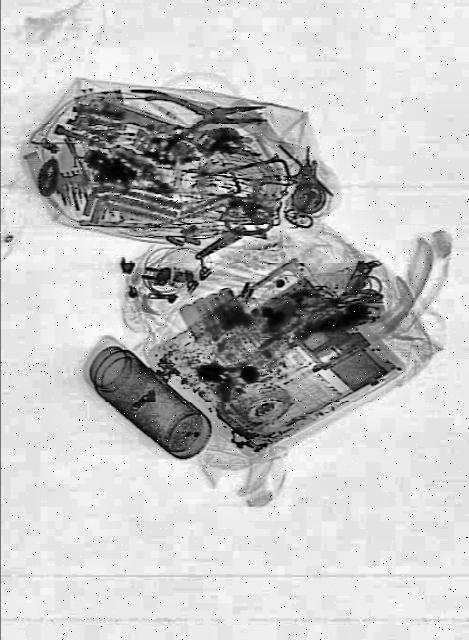Pliers: (131, 80, 271, 162)
